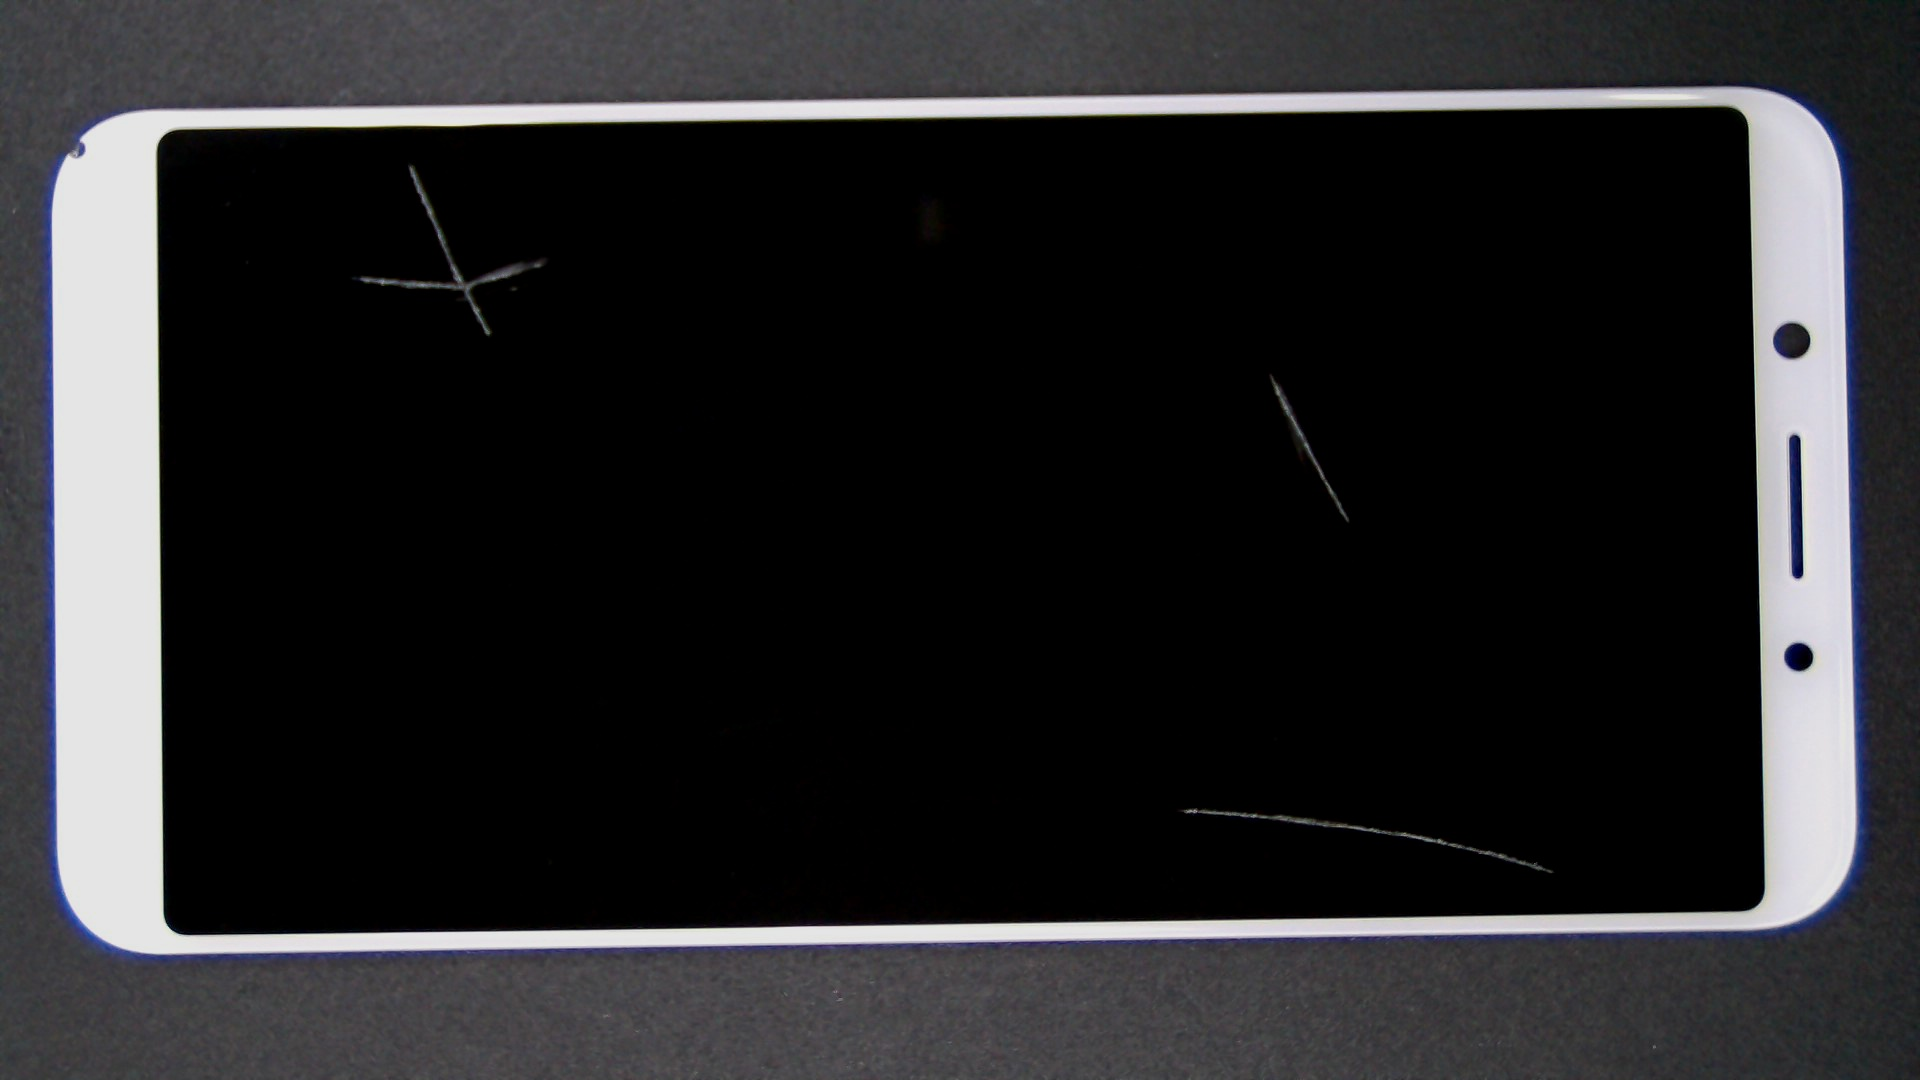oil: (597, 404, 1792, 1080), (636, 186, 1905, 560), (206, 82, 616, 247)
